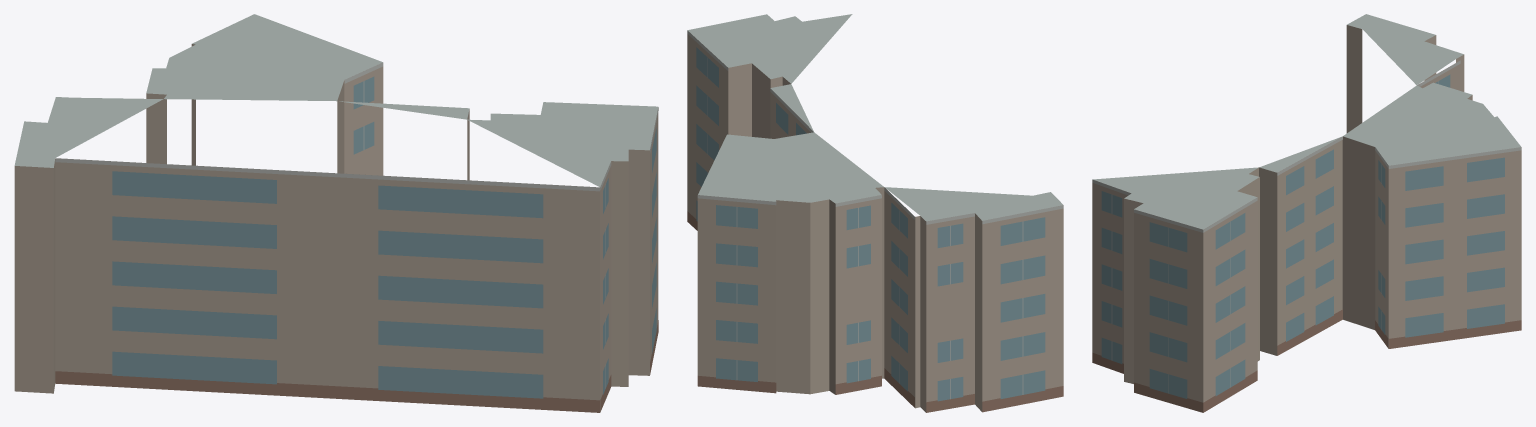
Rendered from survey-upis-32589633.glb.
3 renders of one model, left to right at view 1: azimuth 30°, elevation 25°; view 2: azimuth 150°, elevation 25°; view 3: azimuth 270°, elevation 25°, orthographic. The views are drawn at different scales.
Visible parts, largest first — view 1: survey-upis-32589633.tmp; view 2: survey-upis-32589633.tmp; view 3: survey-upis-32589633.tmp.
Boxes of the visible parts, left/top/right/bottom form: survey-upis-32589633.tmp: left=14, top=14, right=658, bottom=412; survey-upis-32589633.tmp: left=687, top=14, right=1063, bottom=412; survey-upis-32589633.tmp: left=1092, top=14, right=1521, bottom=412.
Bounding box in the file's own units: 34.31 × 13.6 × 28.87.
